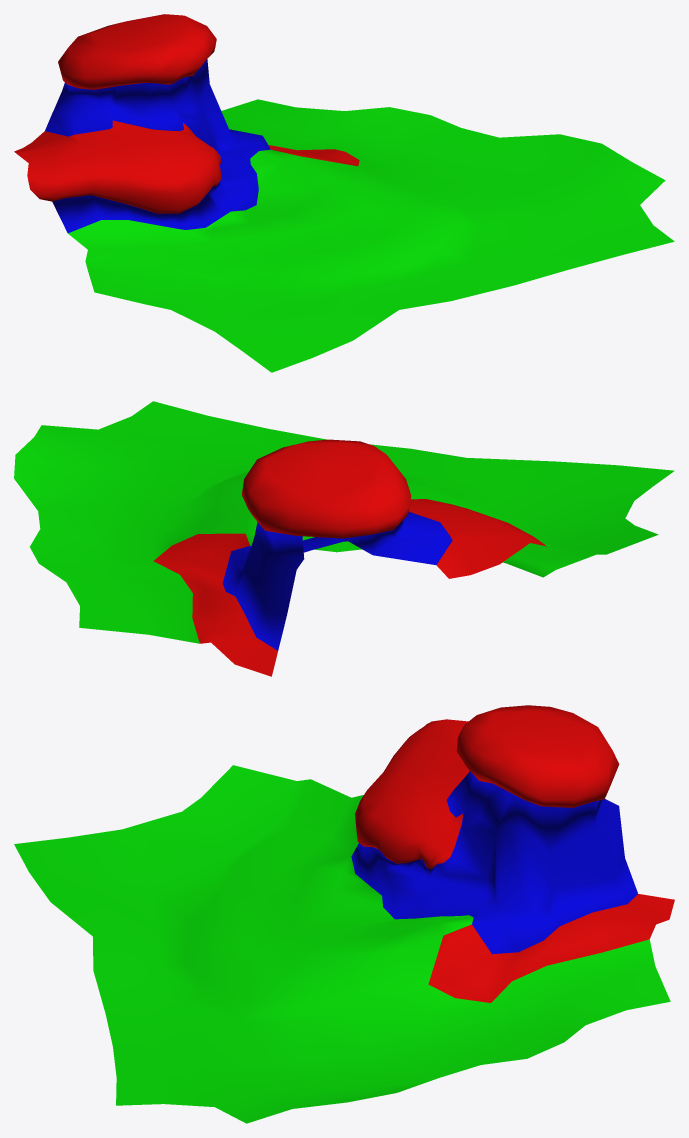
Rendered from BeachStageHills.glb.
3 renders of one model, top to bottom at view 1: azimuth 30°, elevation 25°; view 2: azimuth 150°, elevation 25°; view 3: azimuth 270°, elevation 25°, orthographic. The views are drawn at different scales.
Parts seen in each view (by area): view 1: BeachStageHills; view 2: BeachStageHills; view 3: BeachStageHills.
Boxes of the visible parts, left/top/right/bottom form: BeachStageHills: left=14, top=14, right=674, bottom=372; BeachStageHills: left=14, top=401, right=674, bottom=676; BeachStageHills: left=14, top=705, right=674, bottom=1123.
Size of the model in its own units: 18.26 by 4.98 by 15.89.
